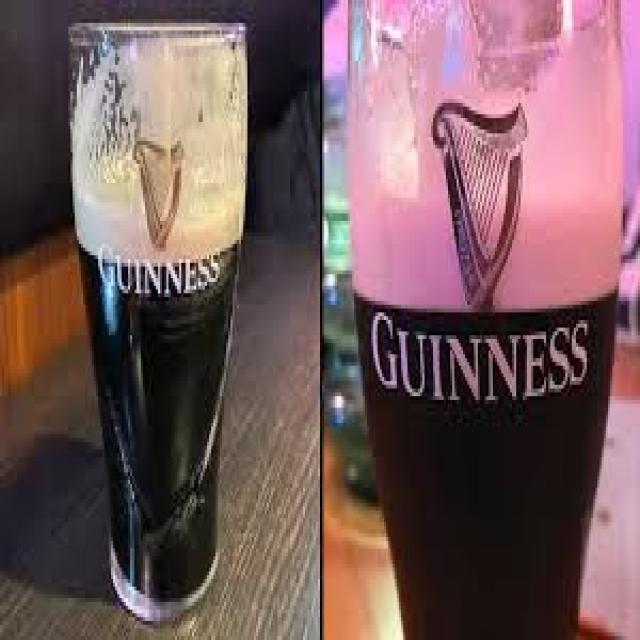too_high_glass: (349, 0, 621, 640)
